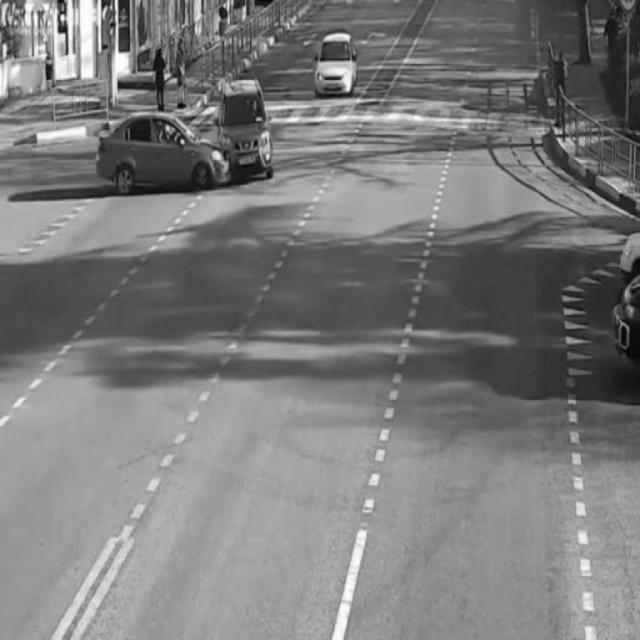accident: (94, 75, 272, 188)
vehicle: (311, 32, 357, 96)
